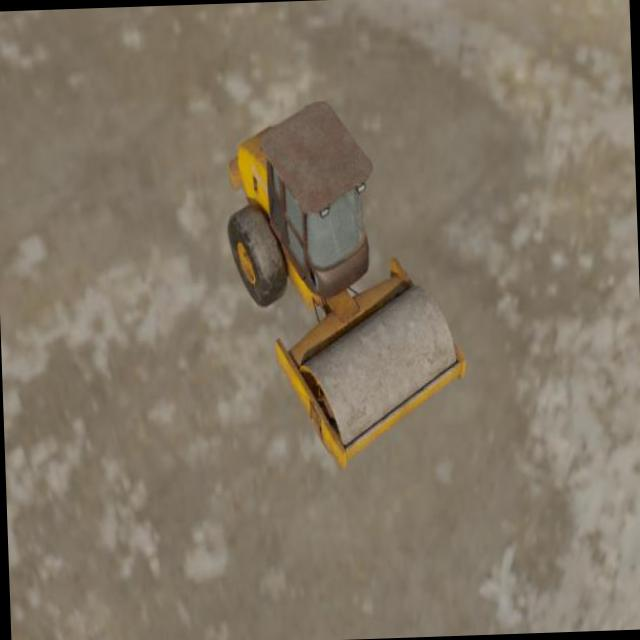Roller: (222, 94, 470, 474)
